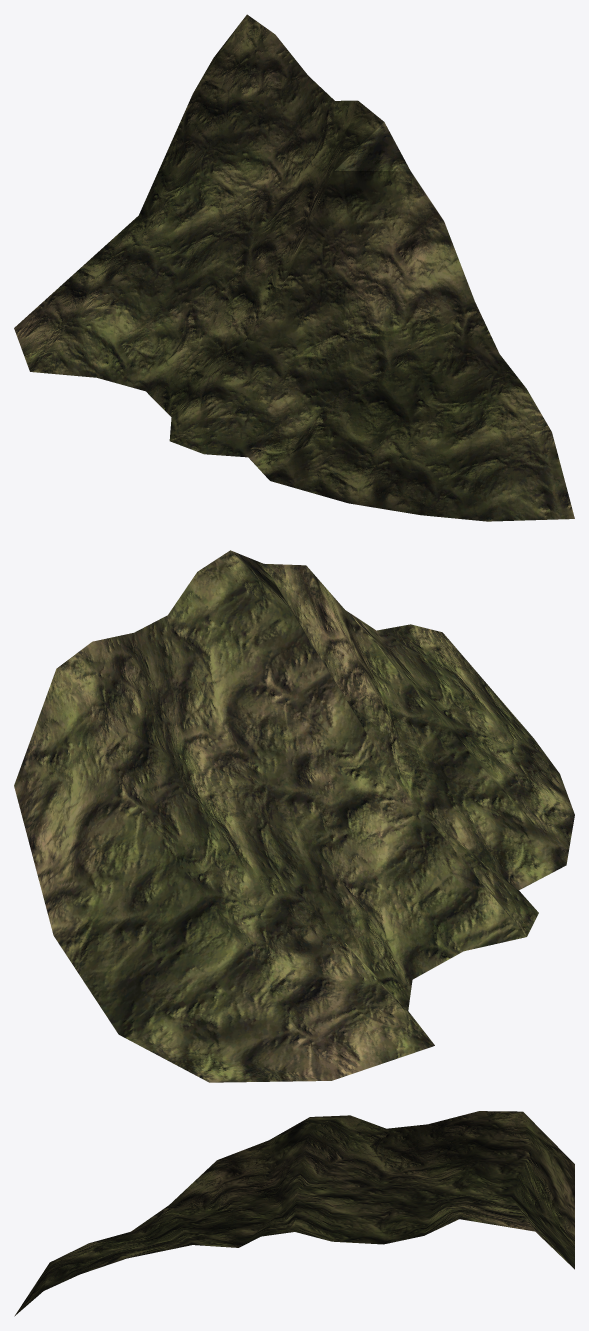
File: shit_pile_end02.DAE
3 views of the same model, one above another, from view 1: azimuth 30°, elevation 25°; view 2: azimuth 150°, elevation 25°; view 3: azimuth 270°, elevation 25° (orthographic). The views are drawn at different scales.
Visible parts, largest first — view 1: Box001; view 2: Box001; view 3: Box001.
Part boxes in pixels (x1,y1,x2,y2): Box001: (14, 14, 574, 521); Box001: (14, 550, 574, 1082); Box001: (14, 1111, 574, 1316).
Size of the model in its own units: 1.38 by 3.35 by 1.36.
